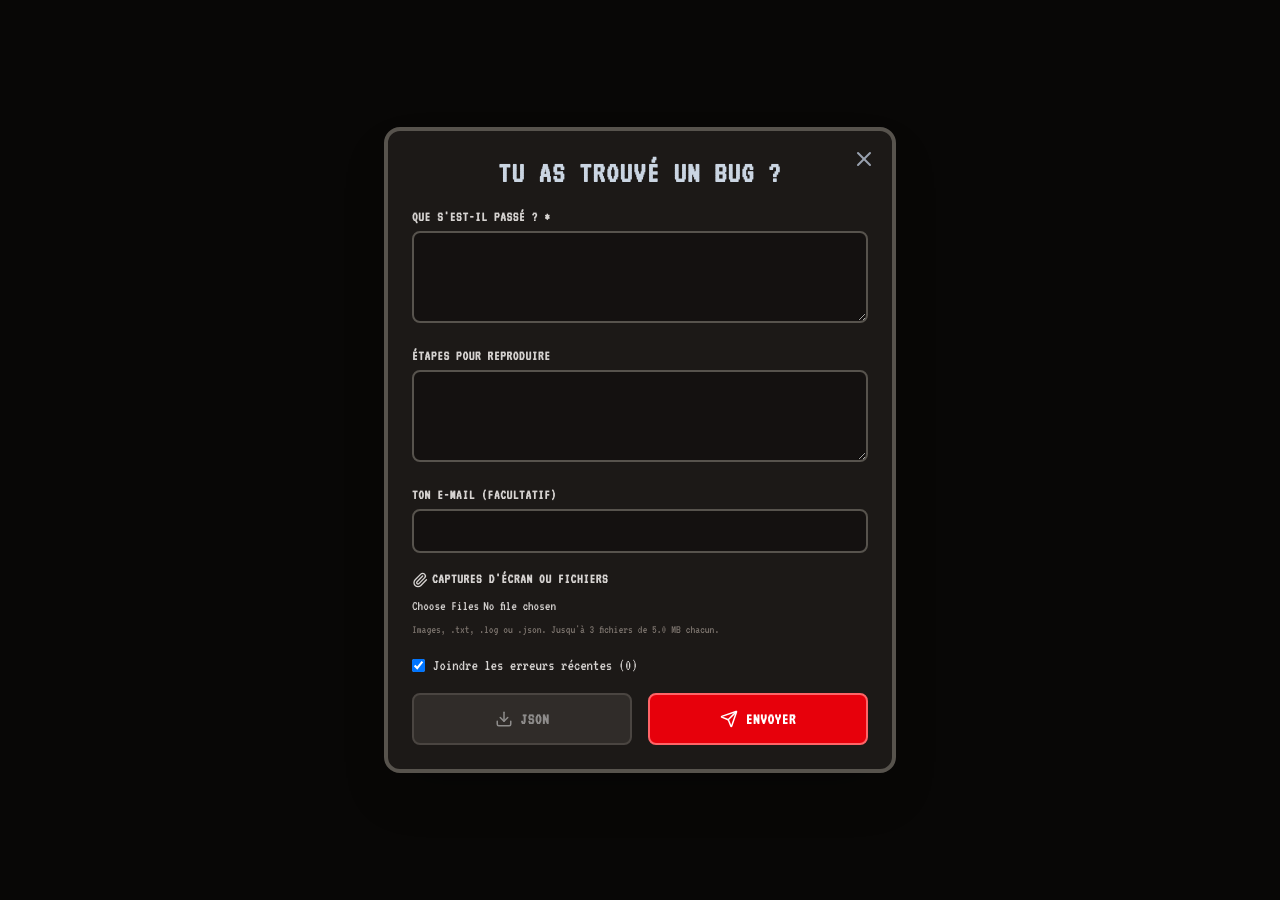
BugReportModal in French › shows the form and its messages in French
expect the heading "Tu as trouvé un bug ?" is shown: met, box [498, 158, 782, 188]
Click the button "Envoyer" at (758, 719), box [648, 693, 868, 745]
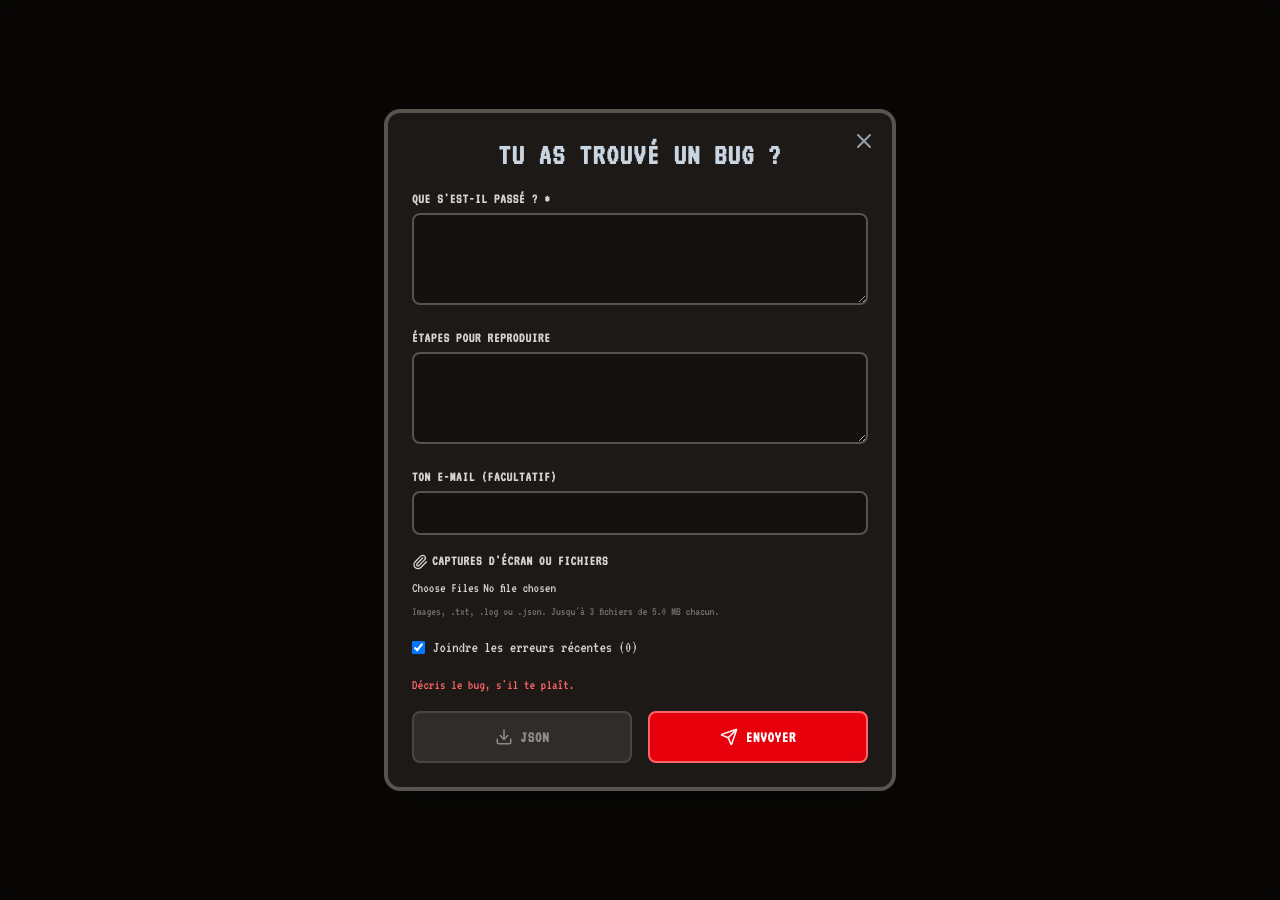
expect the message reads "Décris le bug, s'il te plaît.": met, box [412, 678, 574, 692]
